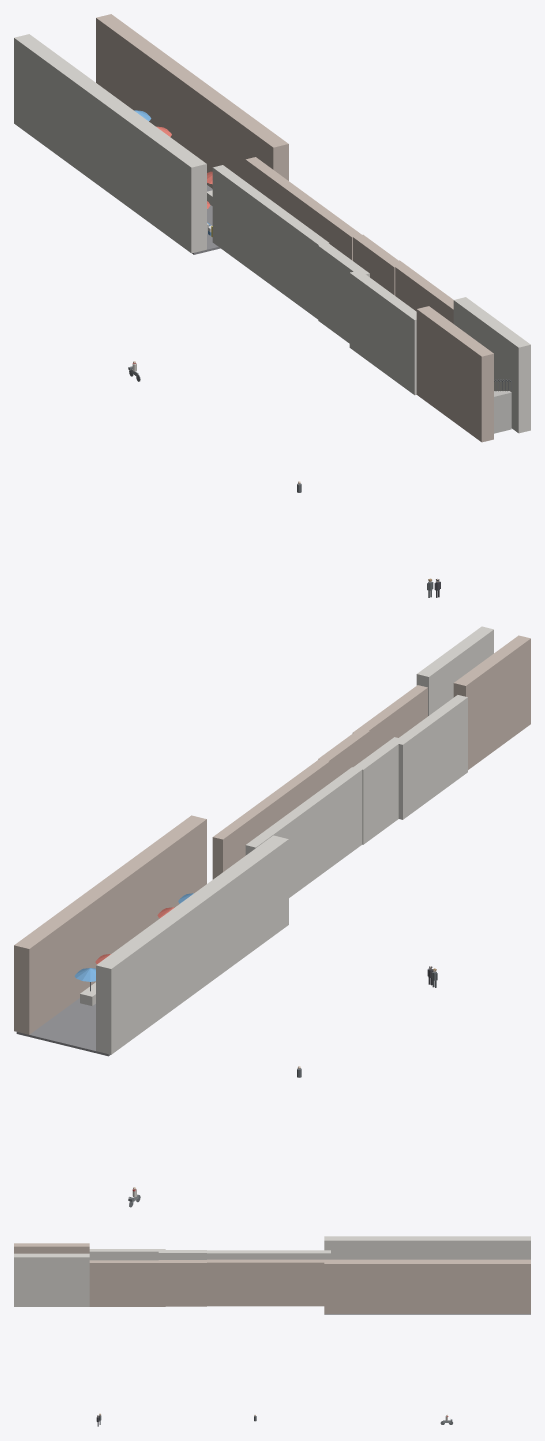
3 views of the same model, one above another, from view 1: azimuth 30°, elevation 25°; view 2: azimuth 150°, elevation 25°; view 3: azimuth 270°, elevation 25° (orthographic). The views are drawn at different scales.
Parts seen in each view (by area): view 1: S03_Buildings, S02_Architecture, S01_Walls, S01_Stairs; view 2: S03_Buildings, S02_Architecture, S01_Walls, S03_Ground; view 3: S03_Buildings, S02_Architecture, S01_Walls.
Part boxes in pixels (x1,y1,x2,y2): S03_Buildings: [14, 14, 288, 253]; S02_Architecture: [212, 157, 453, 395]; S01_Walls: [416, 297, 530, 442]; S01_Stairs: [494, 391, 511, 433]; S03_Buildings: [14, 815, 288, 1054]; S02_Architecture: [212, 685, 467, 897]; S01_Walls: [416, 626, 530, 769]; S03_Ground: [16, 998, 110, 1056]; S03_Buildings: [324, 1236, 530, 1313]; S02_Architecture: [89, 1249, 330, 1306]; S01_Walls: [14, 1243, 89, 1306].
Size of the model in its own units: 9.5 by 28 by 75.
